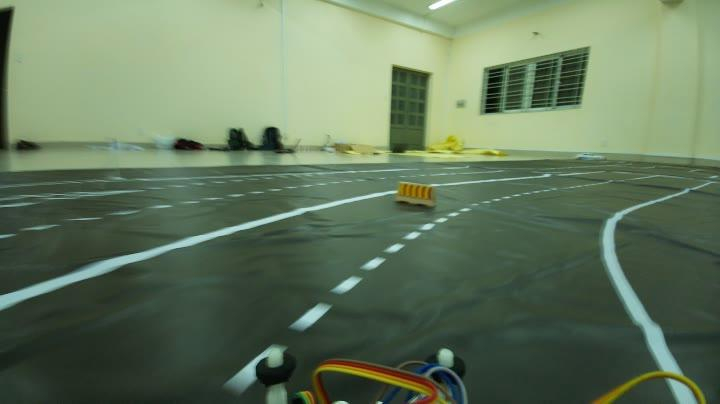roadblock: (392, 177, 443, 205)
